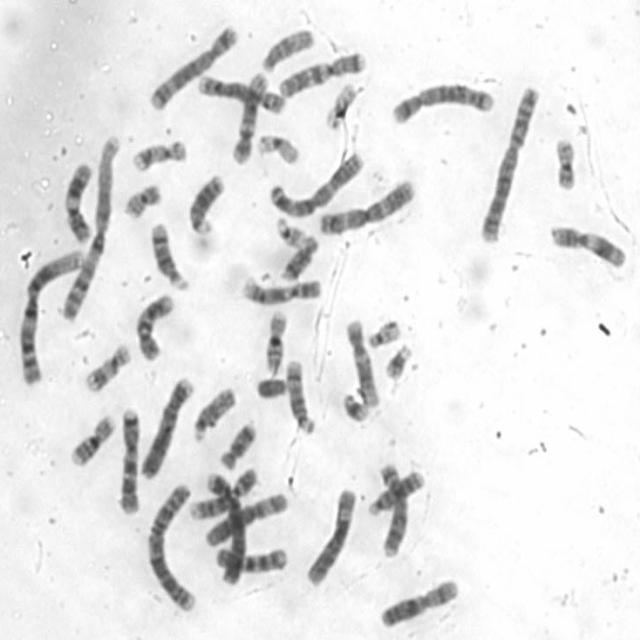A1: (62, 130, 126, 322), (15, 248, 81, 383)
A2: (478, 74, 543, 252), (146, 478, 195, 612)
A3: (264, 152, 369, 222), (319, 182, 413, 235)
B4: (202, 469, 250, 589), (140, 374, 194, 479)
B5: (148, 24, 237, 111), (387, 82, 498, 126)
C10: (133, 290, 176, 362), (216, 545, 288, 573)
C11: (548, 222, 628, 268), (61, 164, 94, 240)
C12: (230, 67, 266, 164), (346, 316, 380, 411)
C6: (301, 483, 358, 588), (203, 487, 289, 550)
C7: (270, 43, 373, 100), (114, 405, 145, 518)
C8: (194, 73, 286, 116), (378, 461, 410, 556)
C9: (188, 466, 258, 526), (234, 275, 326, 308)
D13: (369, 466, 425, 516), (184, 172, 225, 238)
D14: (147, 218, 190, 294), (282, 358, 317, 437)
D15: (258, 25, 318, 73), (190, 385, 239, 440)
E16: (67, 409, 118, 468), (260, 307, 290, 376)
E17: (78, 337, 134, 396), (126, 138, 188, 173)
E18: (278, 236, 323, 284), (219, 418, 260, 470)
F19: (322, 80, 359, 130), (255, 133, 301, 167)
F20: (120, 181, 164, 219), (551, 137, 577, 190)
G21: (379, 339, 414, 382), (336, 385, 371, 427)
G22: (274, 215, 310, 251), (365, 315, 401, 349)
X: (378, 578, 460, 630)
Y: (255, 375, 287, 399)
